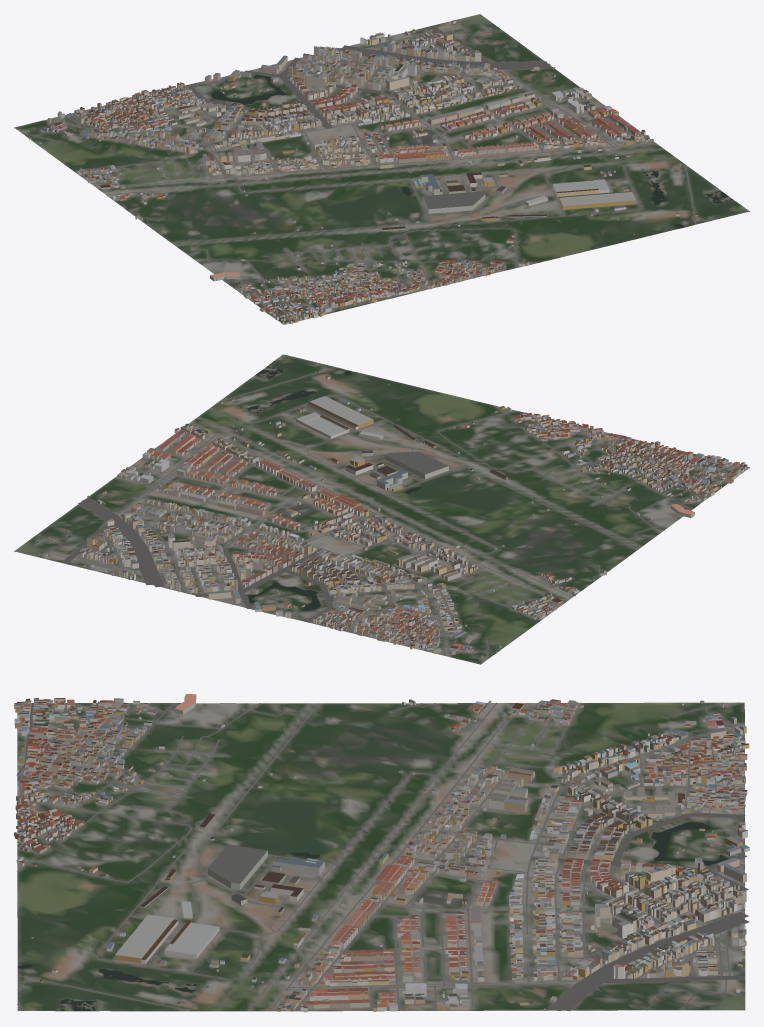
The picture shows the model from 3 angles, top to bottom: view 1: azimuth 30°, elevation 25°; view 2: azimuth 150°, elevation 25°; view 3: azimuth 270°, elevation 25°; orthographic projection. The views are drawn at different scales.
Visible parts, largest first — view 1: ground, buildings, roads, water; view 2: ground, buildings, roads, water; view 3: ground, buildings, roads, water.
Part boxes in pixels (bbox=[...]): ground: bbox=[14, 14, 749, 324]; buildings: bbox=[28, 20, 697, 324]; roads: bbox=[16, 22, 744, 324]; water: bbox=[211, 74, 732, 227]; ground: bbox=[14, 354, 749, 664]; buildings: bbox=[43, 370, 747, 657]; roads: bbox=[25, 356, 748, 662]; water: bbox=[245, 366, 421, 610]; ground: bbox=[17, 702, 745, 1011]; buildings: bbox=[14, 694, 749, 1012]; roads: bbox=[16, 702, 749, 1011]; water: bbox=[18, 822, 728, 1010].
Bounding box in the file's own units: 1427 × 32.12 × 1418.
